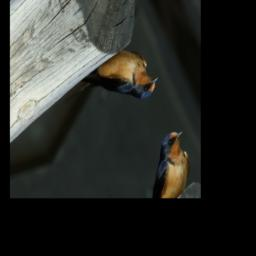Swallow: (60, 31, 162, 154)
